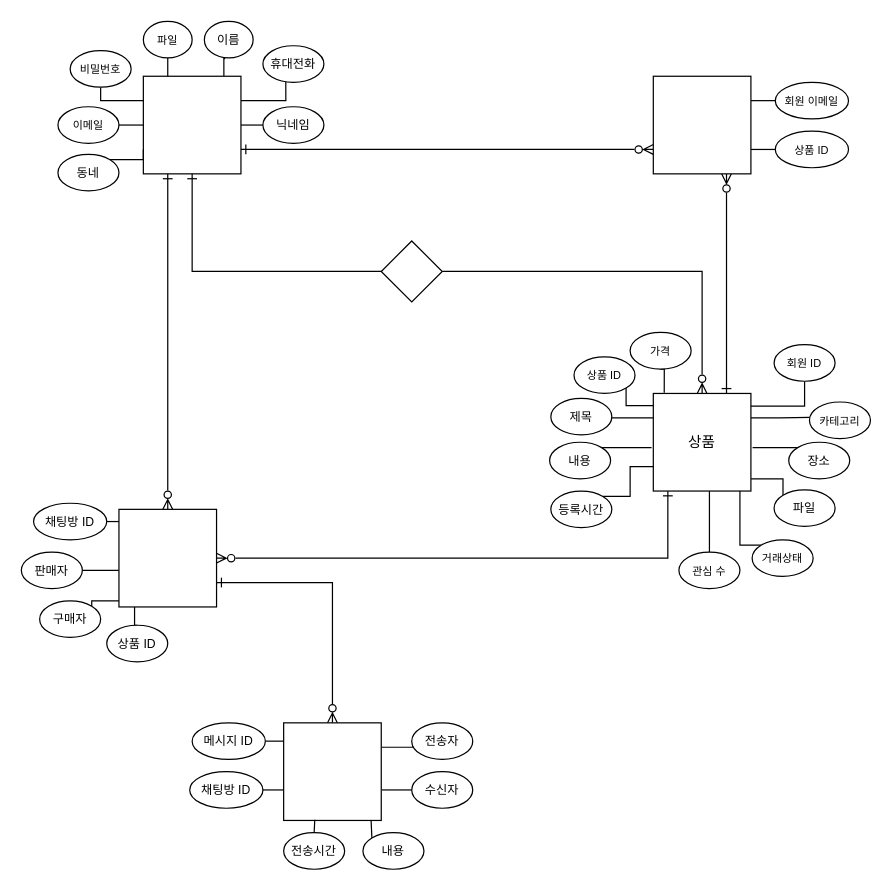
The diagram is 892 pixels wide and 891 high, and some of its shapes have lost their labels. The box of each missing label's shape, as (x1, y1, x2, y2) in pixels:
관심: (652, 75, 751, 174)
메시지: (282, 722, 381, 820)
채팅방: (118, 508, 217, 607)
판매: (380, 240, 442, 302)
회원: (142, 75, 241, 174)
